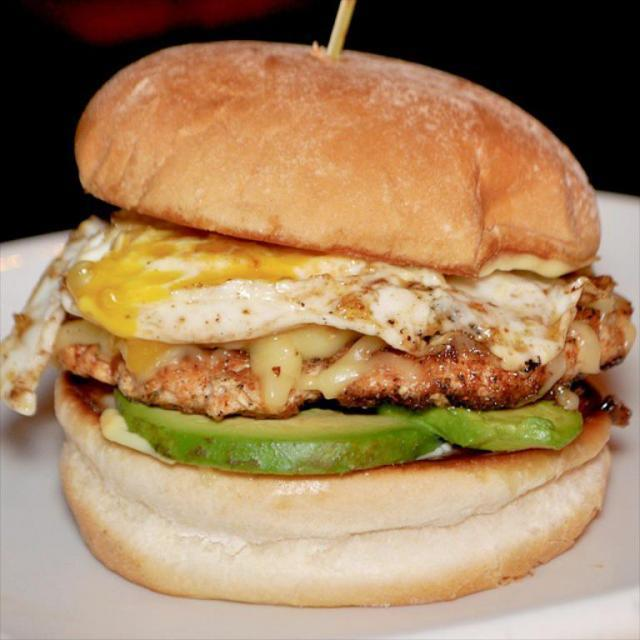Hamburger: (0, 43, 635, 609)
